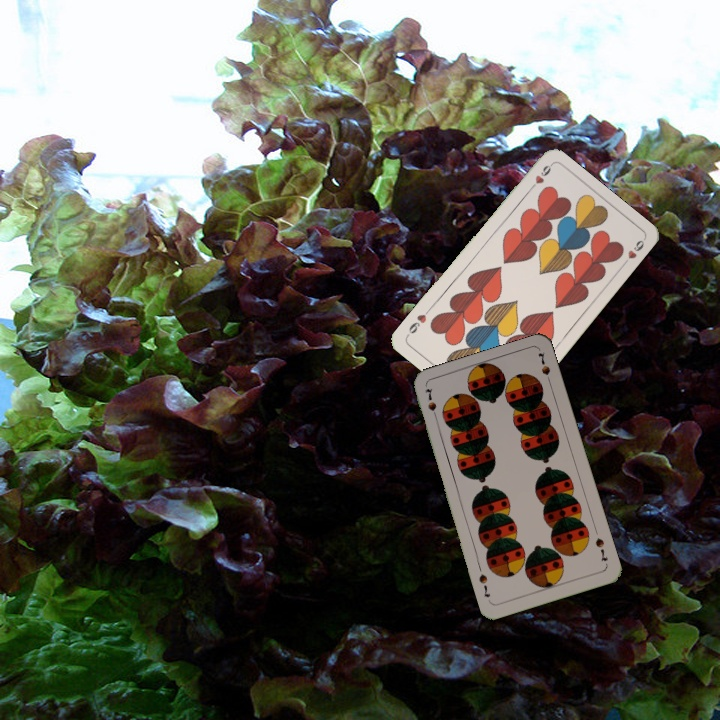H9: (524, 161, 554, 195)
S7: (421, 384, 440, 423), (591, 534, 610, 564)
